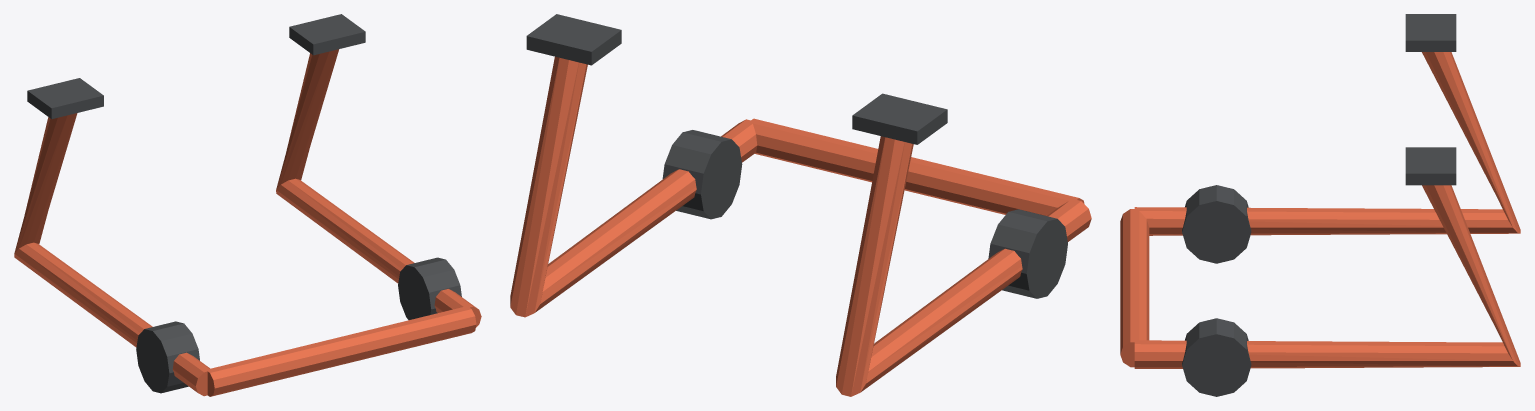
File: motorcycle-racing-and-street-bikes-rear-paddock-stand-25940c18__15434.glb
3 views of the same model, side by side, from view 1: azimuth 30°, elevation 25°; view 2: azimuth 150°, elevation 25°; view 3: azimuth 270°, elevation 25° (orthographic). The views are drawn at different scales.
Parts seen in each view (by area): view 1: rear-paddock-stand; view 2: rear-paddock-stand; view 3: rear-paddock-stand.
Part boxes in pixels (x1,y1,x2,y2): rear-paddock-stand: [14, 14, 481, 396]; rear-paddock-stand: [510, 14, 1091, 396]; rear-paddock-stand: [1120, 14, 1520, 396].
Size of the model in its own units: 0.6 by 0.4 by 0.6353.
